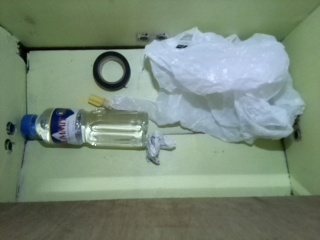bottle: (20, 107, 149, 150)
paper: (146, 130, 177, 164)
plastic-bag: (114, 26, 305, 141)
